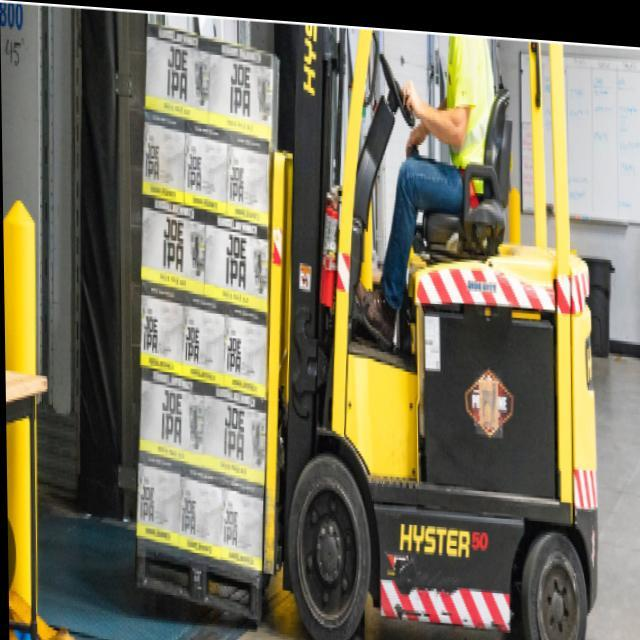boots: (353, 273, 403, 358)
vest: (444, 35, 499, 201)
